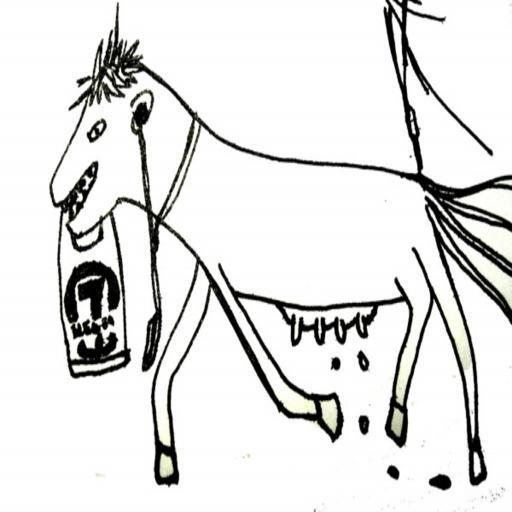horse: (48, 22, 512, 488)
